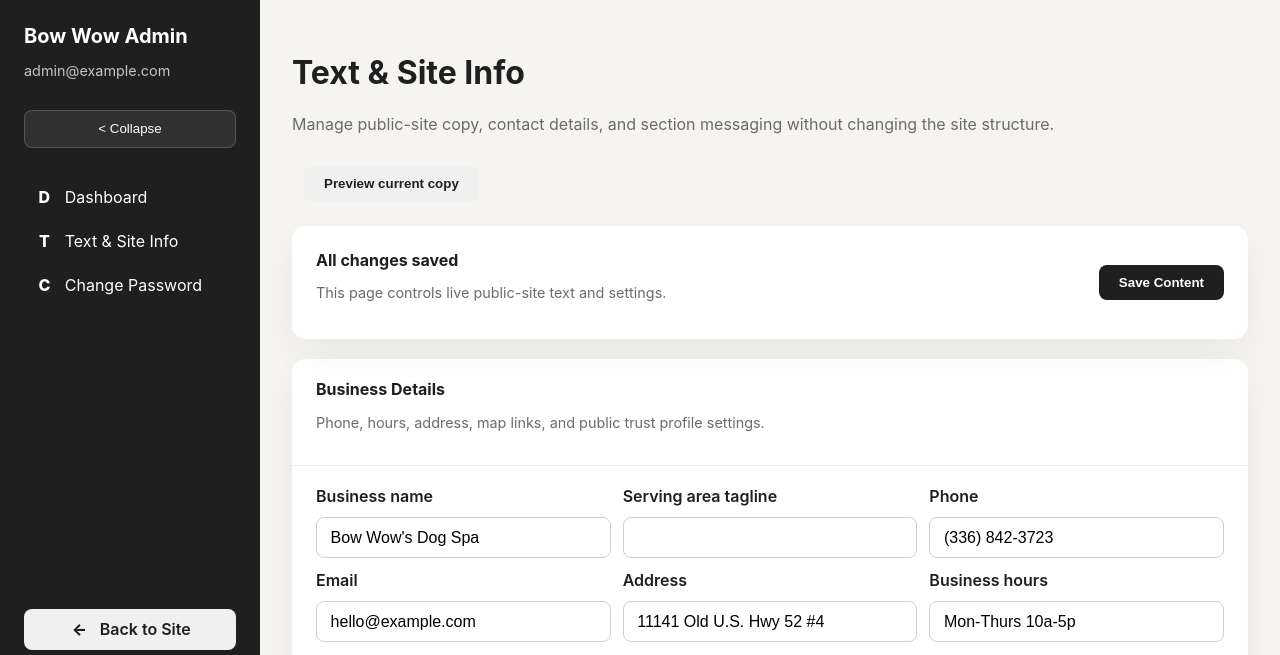
it: admin app › renders products and footer controls inside the content editor
Click the button "Preview current copy" at (391, 184), box [304,166,479,202]
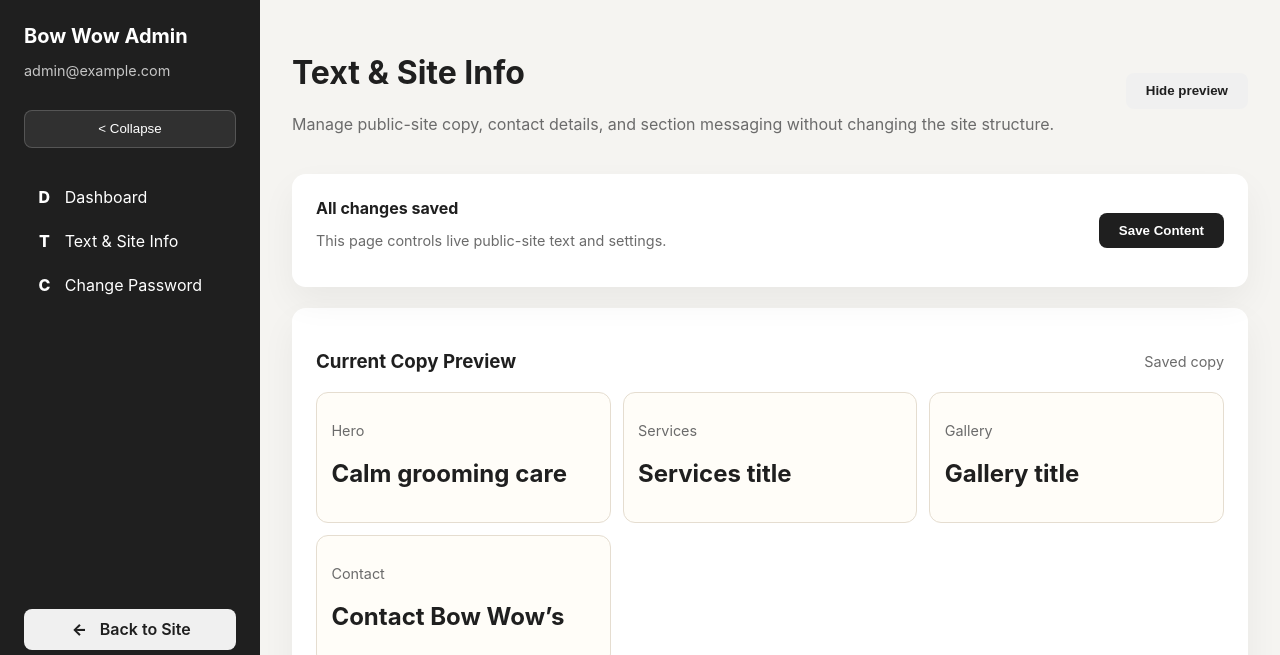
Now the heading "Current Copy Preview" is shown, box [316,350,516,373]
Now the heading "Calm grooming care" is shown, box [331,459,595,488]
